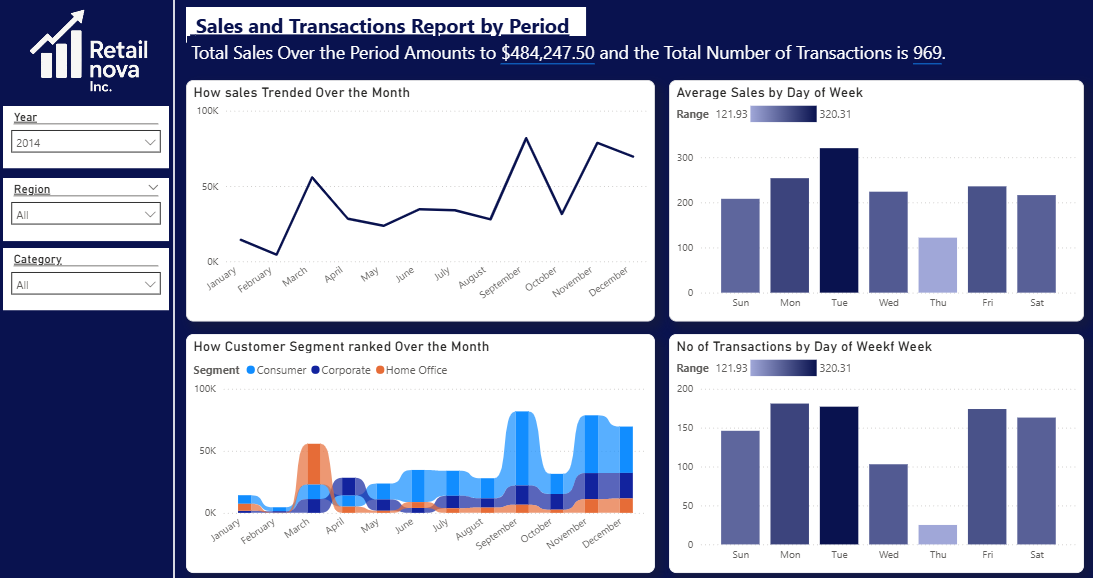

What the dashboard file says about the page in this screenshot:
{"tool":"powerbi","page":{"name":"Periodic Report","canvas":[1320,700],"ordinal":0},"visuals":[{"type":"shape","box":[191.6,0,38.6,700],"z":0},{"type":"textbox","box":[225.3,8.4,481.9,43.4],"z":1000},{"type":"textbox","box":[225.9,43.2,1093.8,40.7],"z":2000},{"type":"lineChart","title":"How sales Trended Over the Month","fields":{"Category":["Sheet1.Order Date.Variation.Date Hierarchy.Month"],"Y":["Sum(Sheet1.Sales)"]},"box":[225.7,95.9,564.9,290.5],"z":3000},{"type":"ribbonChart","title":"How Customer Segment ranked Over the Month","fields":{"Category":["Sheet1.Order Date.Variation.Date Hierarchy.Month"],"Y":["Sum(Sheet1.Sales)"],"Series":["Sheet1.Segment"]},"box":[225.7,402.7,564.9,287.8],"z":4000},{"type":"columnChart","title":"Average Sales by Day of Week","fields":{"Category":["Sheet1.DAy Name"],"Y":["Avg(Sheet1.Sales)"]},"box":[806.8,95.9,500,290.5],"z":5000},{"type":"columnChart","title":"No of Transactions by Day of Weekf Week","fields":{"Category":["Sheet1.DAy Name"],"Y":["Count(Sheet1.Order ID)"]},"box":[806.8,402.7,500,287.8],"z":6000},{"type":"slicer","fields":{"Values":["Sheet1.Order Date.Variation.Date Hierarchy.Year"]},"box":[4.8,127.7,200,74.7],"z":7000},{"type":"slicer","fields":{"Values":["Sheet1.Region"]},"box":[4.8,214.5,200,75.9],"z":8000},{"type":"slicer","fields":{"Values":["Sheet1.Category"]},"box":[4.8,298.8,200,74.7],"z":9000},{"type":"image","box":[4.8,0,220.5,116.9],"z":9001}]}

Visuals, with their boxes in screenshot pixels (x1, y1, x2, y2), scaled from the page's 1320x700 canvas onto the 1093x578 screenshot:
shape: (159,0,191,577)
textbox: (187,7,586,43)
textbox: (187,36,1092,69)
"How sales Trended Over the Month" lineChart: (187,79,655,319)
"How Customer Segment ranked Over the Month" ribbonChart: (187,333,655,570)
"Average Sales by Day of Week" columnChart: (668,79,1082,319)
"No of Transactions by Day of Weekf Week" columnChart: (668,333,1082,570)
slicer - Sheet1.Order Date.Variation.Date Hierarchy.Year: (4,105,170,167)
slicer - Sheet1.Region: (4,177,170,240)
slicer - Sheet1.Category: (4,247,170,308)
image: (4,0,187,97)
